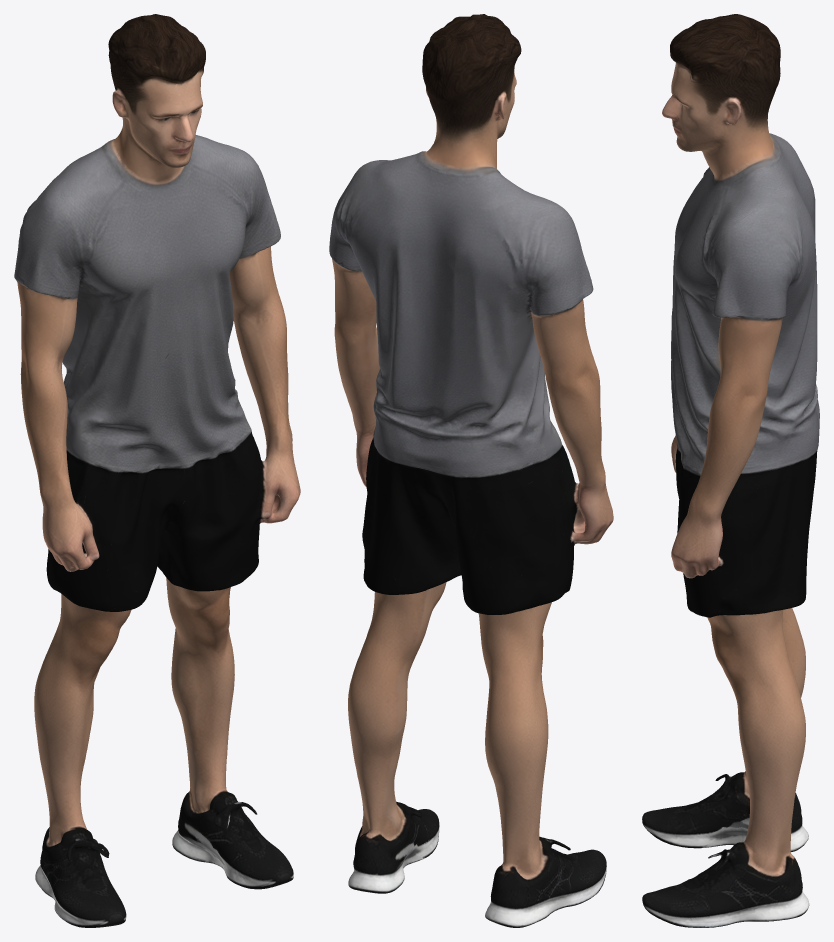
The model's file is PersonaHombreAtletico.fbx.
3 views of the same model, side by side, from view 1: azimuth 30°, elevation 25°; view 2: azimuth 150°, elevation 25°; view 3: azimuth 270°, elevation 25° (orthographic).
Visible parts, largest first — view 1: Mesh_0; view 2: Mesh_0; view 3: Mesh_0.
Boxes of the visible parts, <box> form: Mesh_0: <box>14,14,300,927</box>; Mesh_0: <box>329,14,613,927</box>; Mesh_0: <box>642,14,819,927</box>.
Size of the model in its own units: 59.12 by 190 by 35.57.
1 material, 1 textured.
